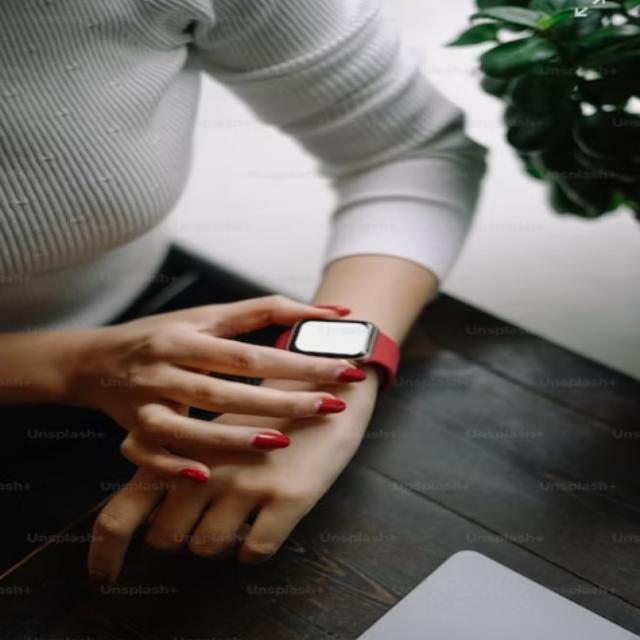Watch: (264, 314, 409, 378)
